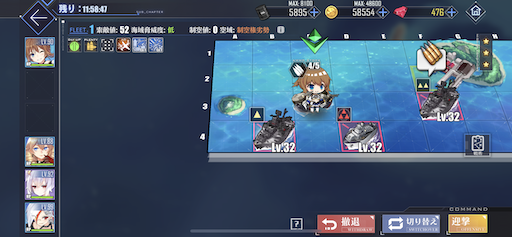lv1: (250, 105, 295, 151)
lv2: (416, 78, 460, 119)
lv3: (338, 108, 383, 152)
